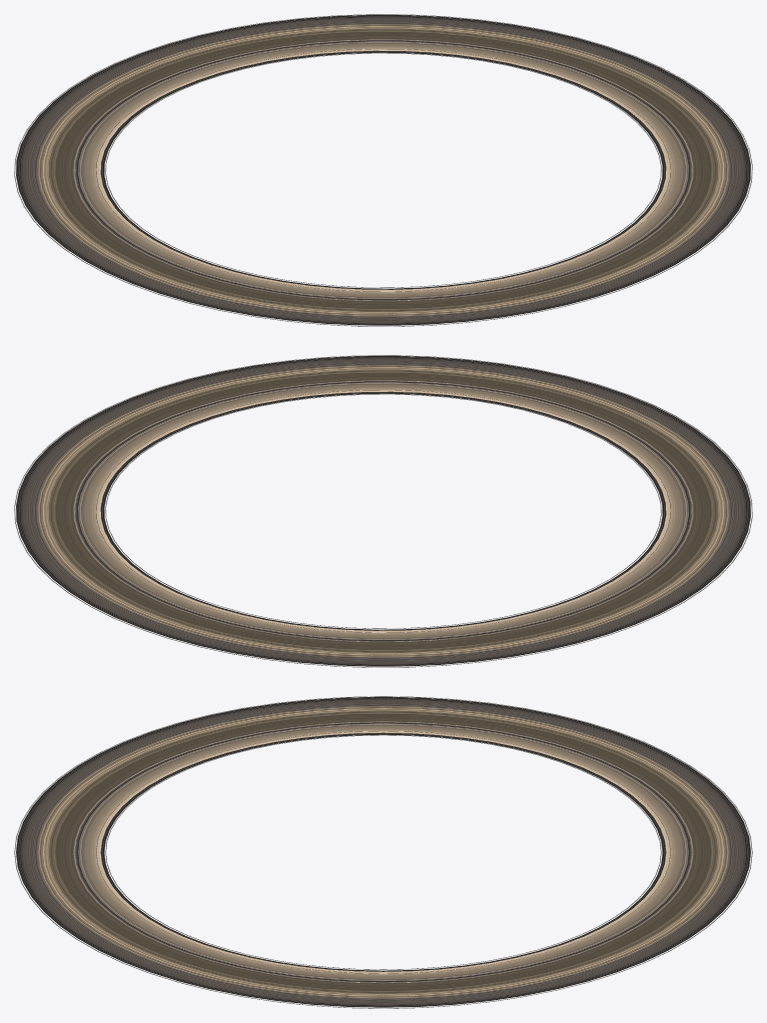
Rendered from Rings.FBX.
The picture shows the model from 3 angles, top to bottom: view 1: azimuth 30°, elevation 25°; view 2: azimuth 150°, elevation 25°; view 3: azimuth 270°, elevation 25°; orthographic projection.
Parts seen in each view (by area): view 1: Rings; view 2: Rings; view 3: Rings.
Part boxes in pixels (x1=…): Rings: x1=14, y1=14, x2=752, y2=326; Rings: x1=14, y1=355, x2=752, y2=667; Rings: x1=14, y1=696, x2=752, y2=1008.
Bounding box in the file's own units: 2 × 2 × 0.001.
